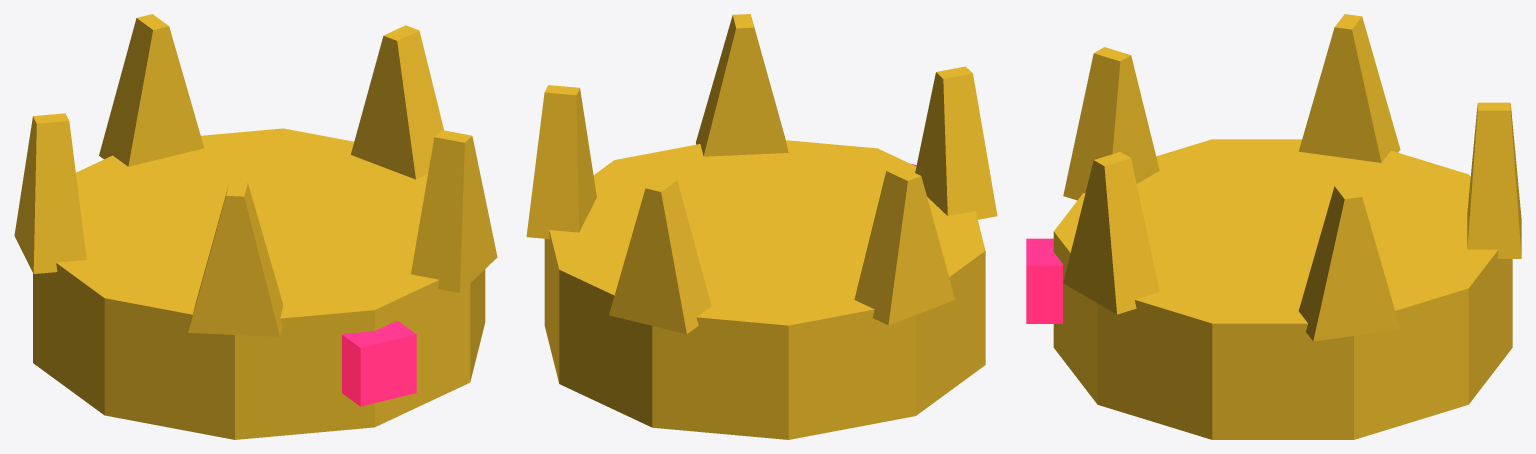
Rendered from acc_crown.glb.
3 renders of one model, left to right at view 1: azimuth 30°, elevation 25°; view 2: azimuth 150°, elevation 25°; view 3: azimuth 270°, elevation 25°, orthographic. The views are drawn at different scales.
Parts seen in each view (by area): view 1: acc_crown; view 2: acc_crown; view 3: acc_crown.
Boxes of the visible parts, x1,y1,x2,y2 form: acc_crown: (14,14,497,439); acc_crown: (526,14,997,439); acc_crown: (1026,14,1521,439).
Size of the model in its own units: 0.5255 by 0.29 by 0.54.
